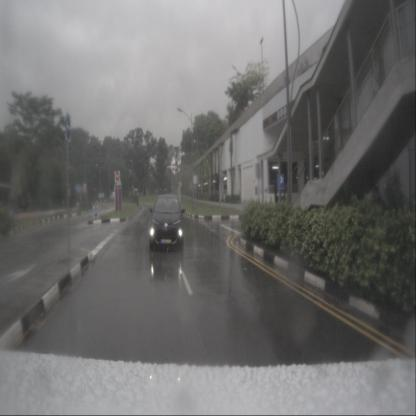vehicle-car: (149, 194, 185, 250)
